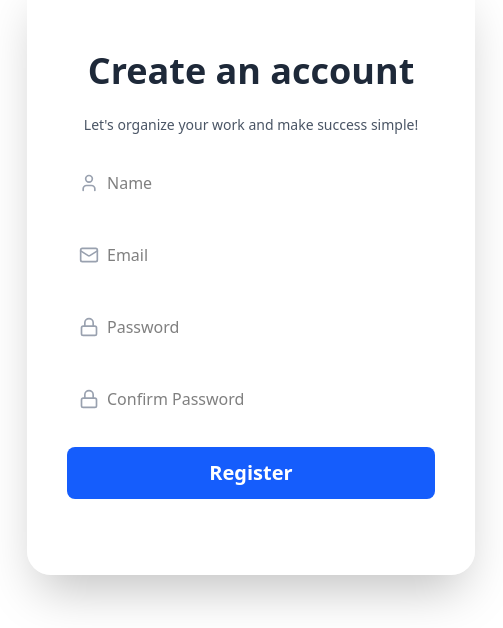
Test: Register Component › shows error message when registration fails
The width and height of the screenshot is (503, 628).
Type "Test User" into the field with placeholder "Name" at (251, 183), box [67, 159, 435, 207]
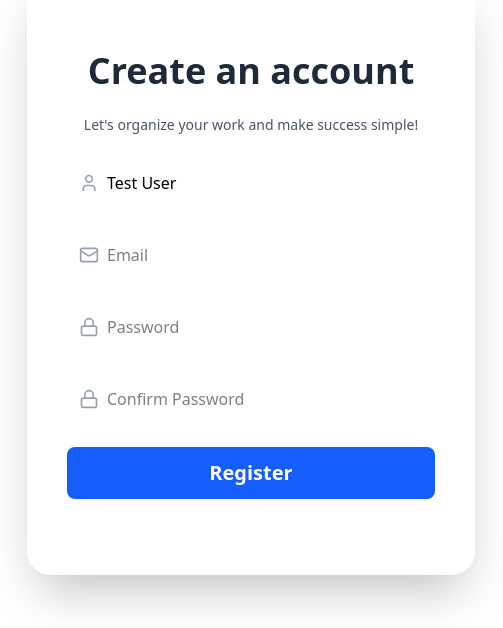
Type "existing@example.com" into the field with placeholder "Email" at (251, 255), box [67, 231, 435, 279]
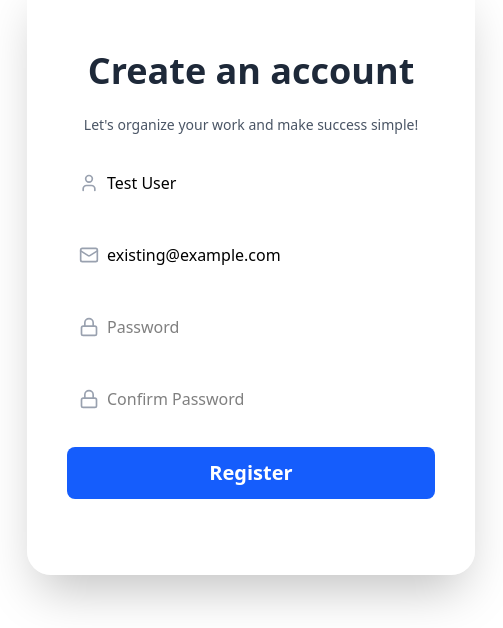
Type "password123" into the password field with placeholder "Password" at (251, 327), box [67, 303, 435, 351]
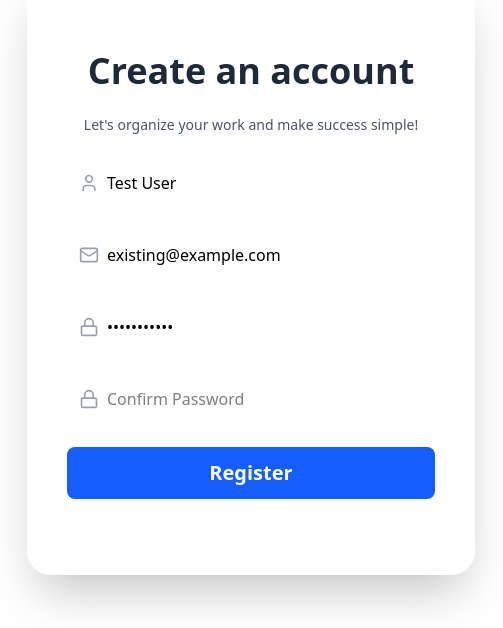
Type "password123" into the password field with placeholder "Confirm Password" at (251, 399), box [67, 375, 435, 423]
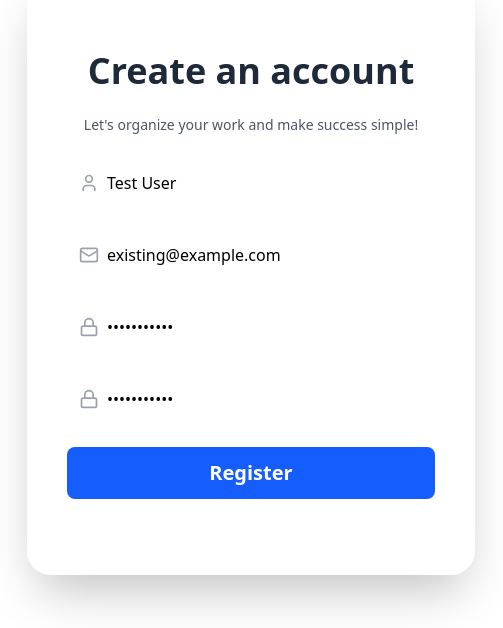
Submit the form from the button "Register", box [67, 447, 435, 499]
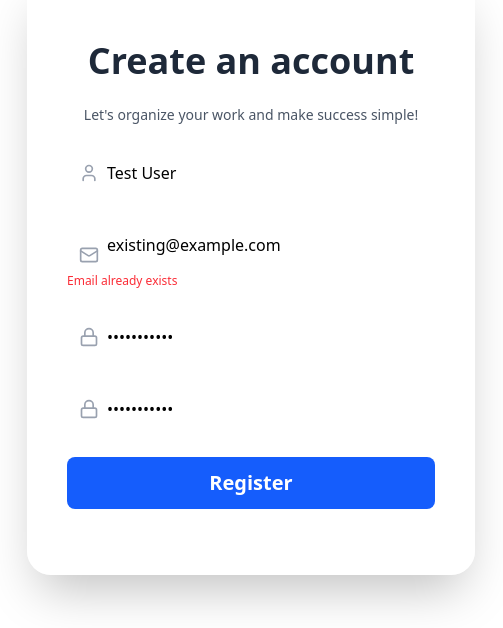
Check: the text "Email already exists" is shown, box [67, 272, 177, 289]
